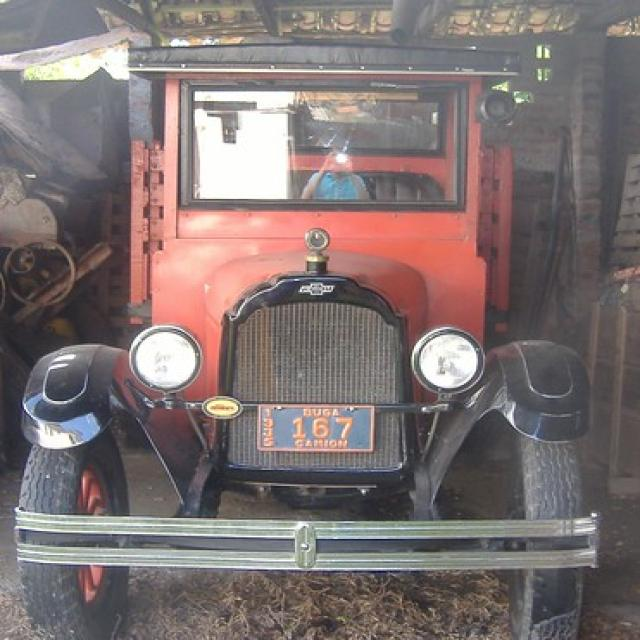placas: (259, 405, 377, 454)
